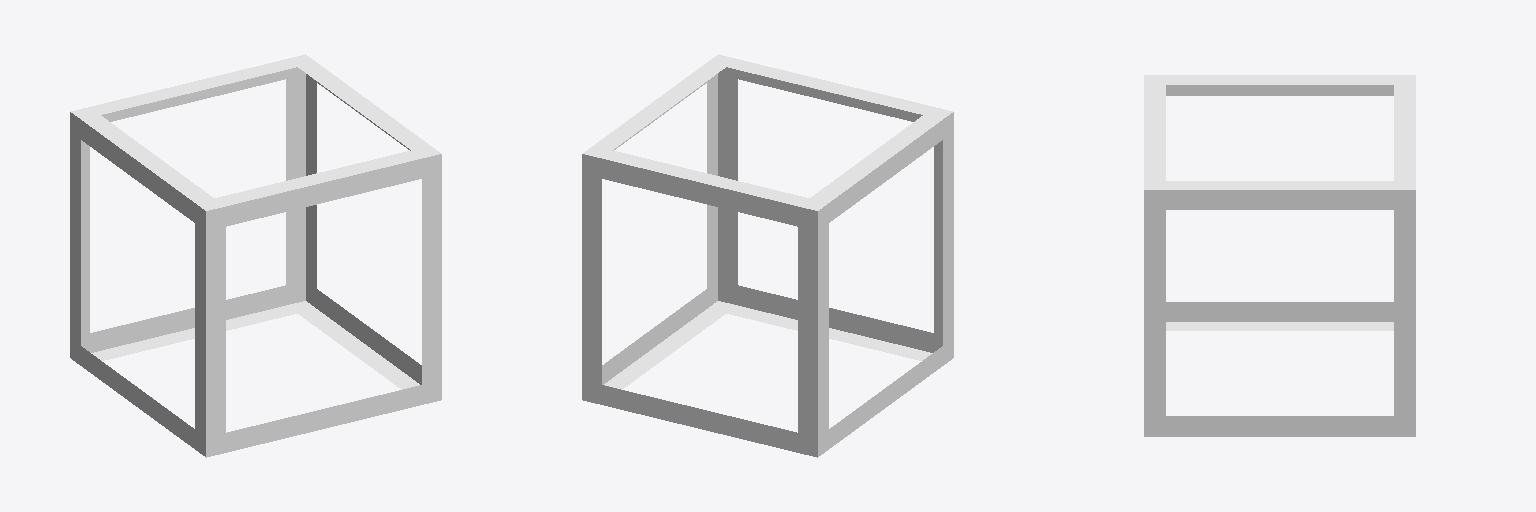
3 views of the same model, side by side, from view 1: azimuth 30°, elevation 25°; view 2: azimuth 150°, elevation 25°; view 3: azimuth 270°, elevation 25° (orthographic).
Visible parts, largest first — view 1: selection; view 2: selection; view 3: selection.
Part boxes in pixels (bbox=[...]): selection: bbox=[70, 54, 441, 457]; selection: bbox=[582, 54, 953, 457]; selection: bbox=[1144, 75, 1415, 436].
Bounding box in the file's own units: 1.2 × 1.2 × 1.2.
Materials: 1 (1 with a texture image).